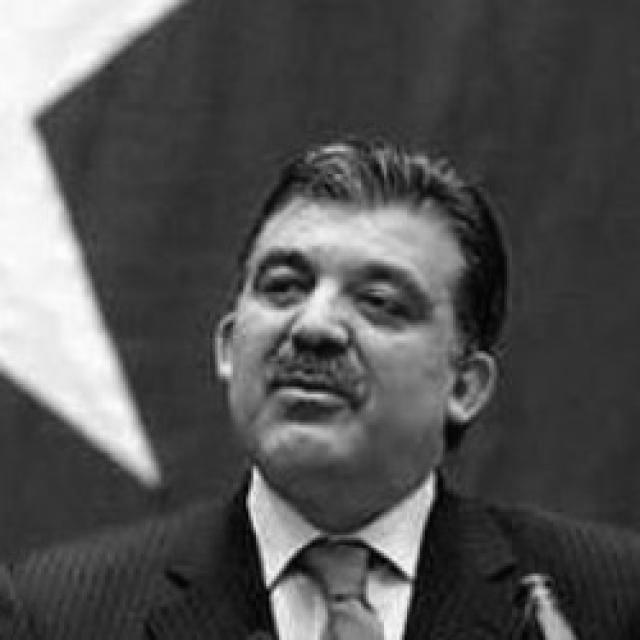real: (246, 160, 480, 510), (251, 249, 433, 327)
